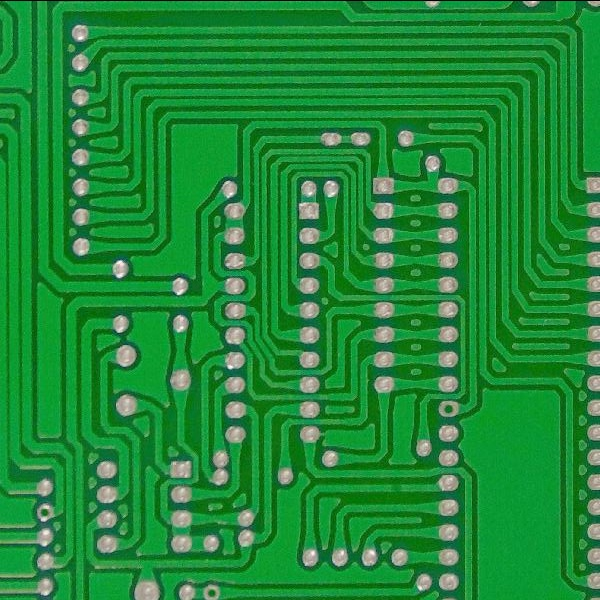missing_hole: (436, 396, 459, 420), (199, 580, 220, 599), (34, 503, 55, 521)
